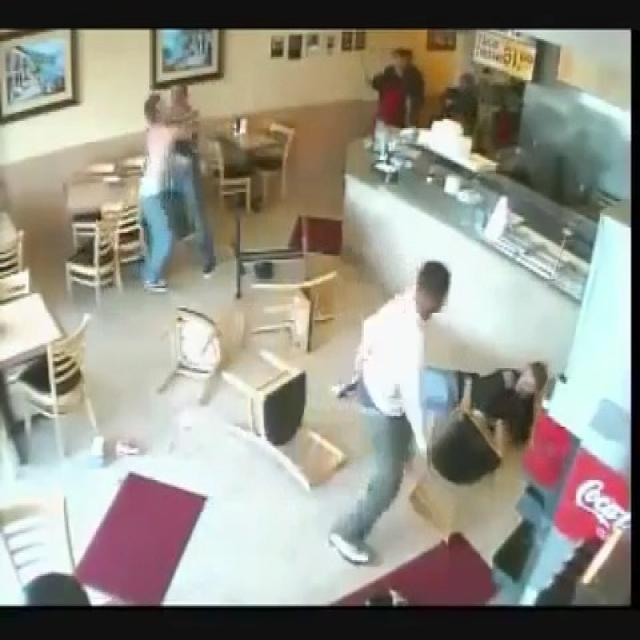fight: (353, 246, 553, 492)
